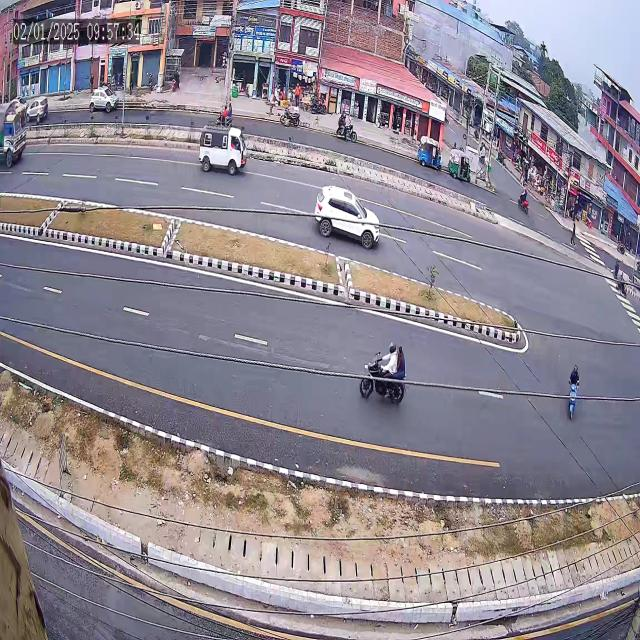car: (305, 165, 389, 252)
motorcycle: (348, 318, 417, 424), (564, 352, 584, 431), (514, 178, 534, 230)
van: (194, 120, 255, 179)
